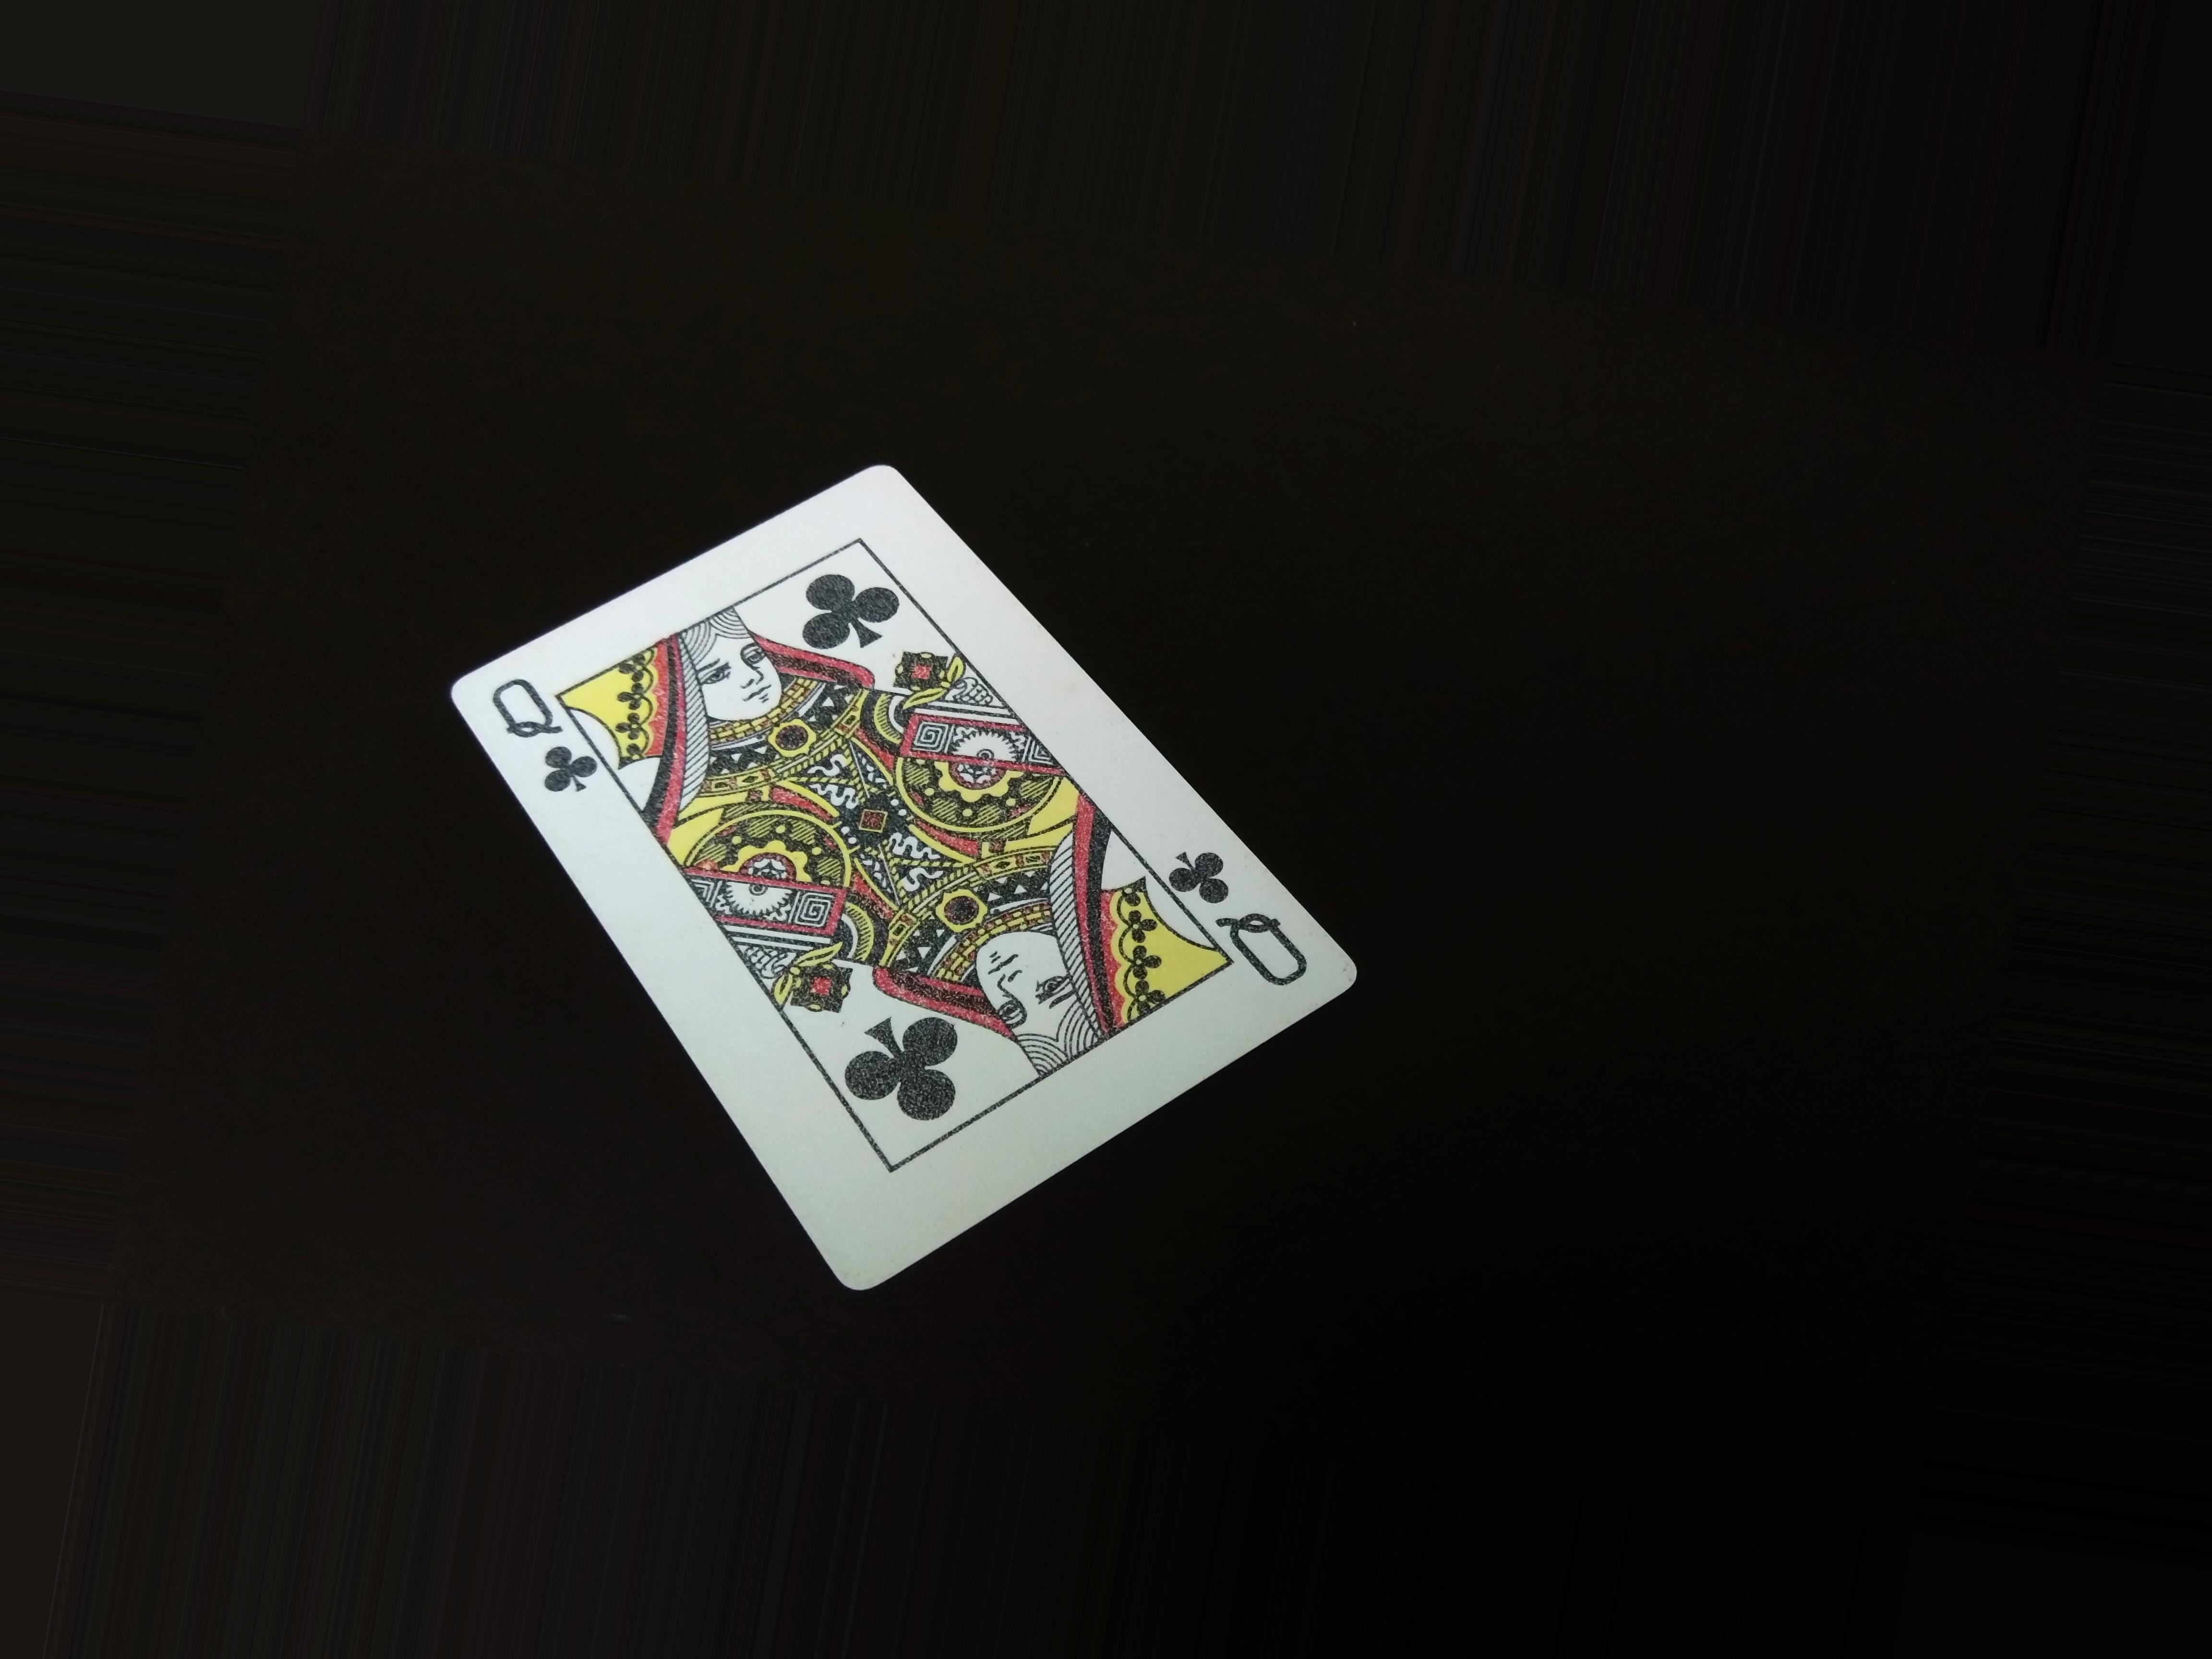QC: (470, 657, 601, 793)
